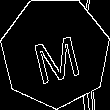M_N: (27, 22, 83, 83)
